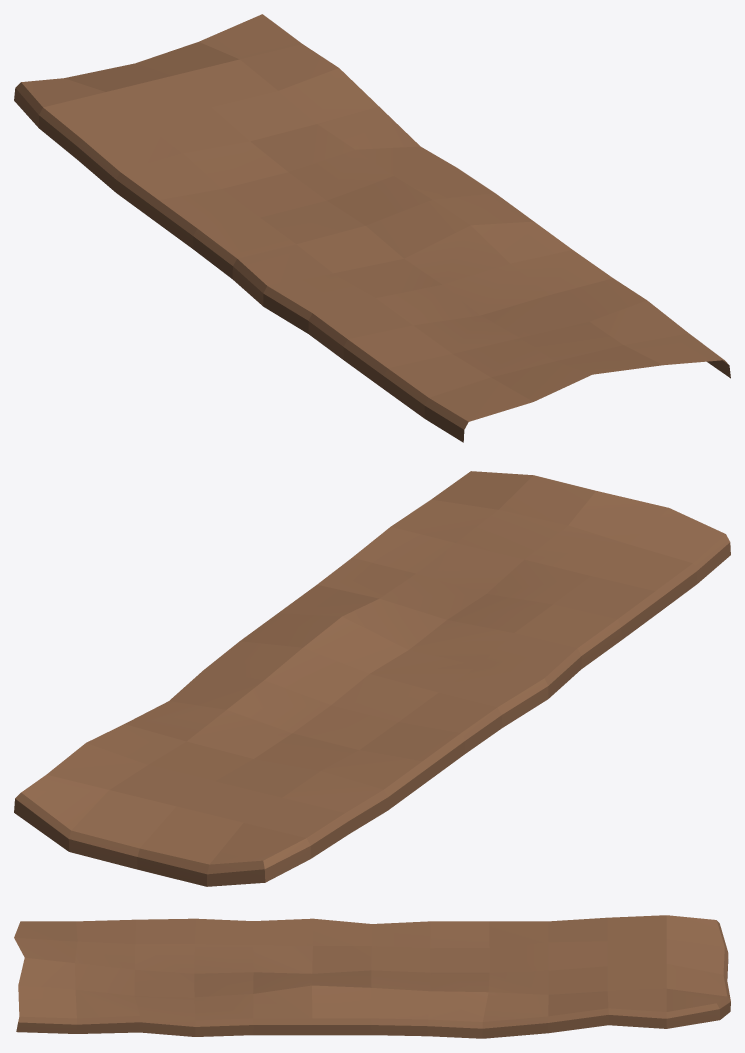
Rendered from RoadTile_1.fbx.
The picture shows the model from 3 angles, top to bottom: view 1: azimuth 30°, elevation 25°; view 2: azimuth 150°, elevation 25°; view 3: azimuth 270°, elevation 25°; orthographic projection. The views are drawn at different scales.
Visible parts, largest first — view 1: RoadTile_1; view 2: RoadTile_1; view 3: RoadTile_1.
Boxes of the visible parts, x1,y1,x2,y2 form: RoadTile_1: [14, 14, 730, 442]; RoadTile_1: [14, 471, 730, 886]; RoadTile_1: [14, 915, 730, 1038].
Size of the model in its own units: 414 by 60.04 by 1212.
